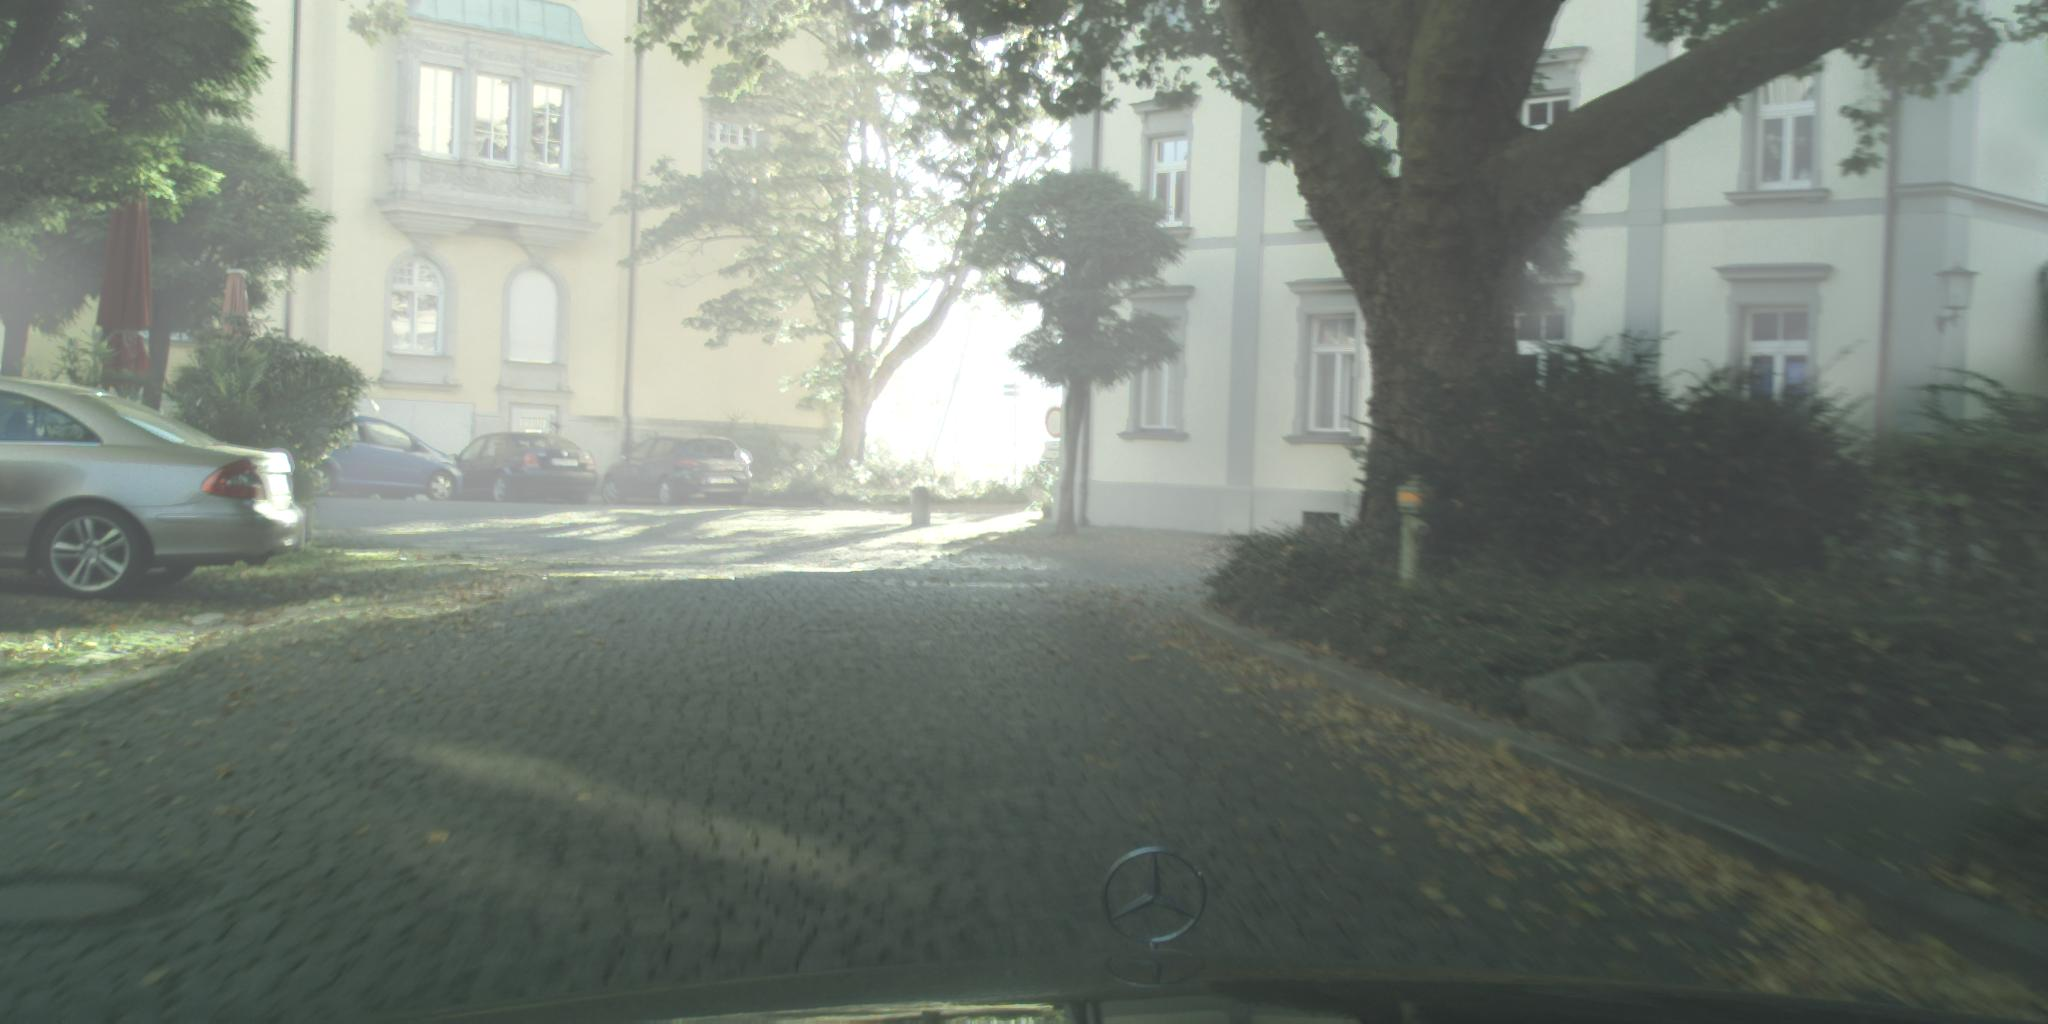car: (1, 376, 306, 606), (310, 417, 464, 503), (602, 434, 751, 509), (453, 434, 600, 505)
